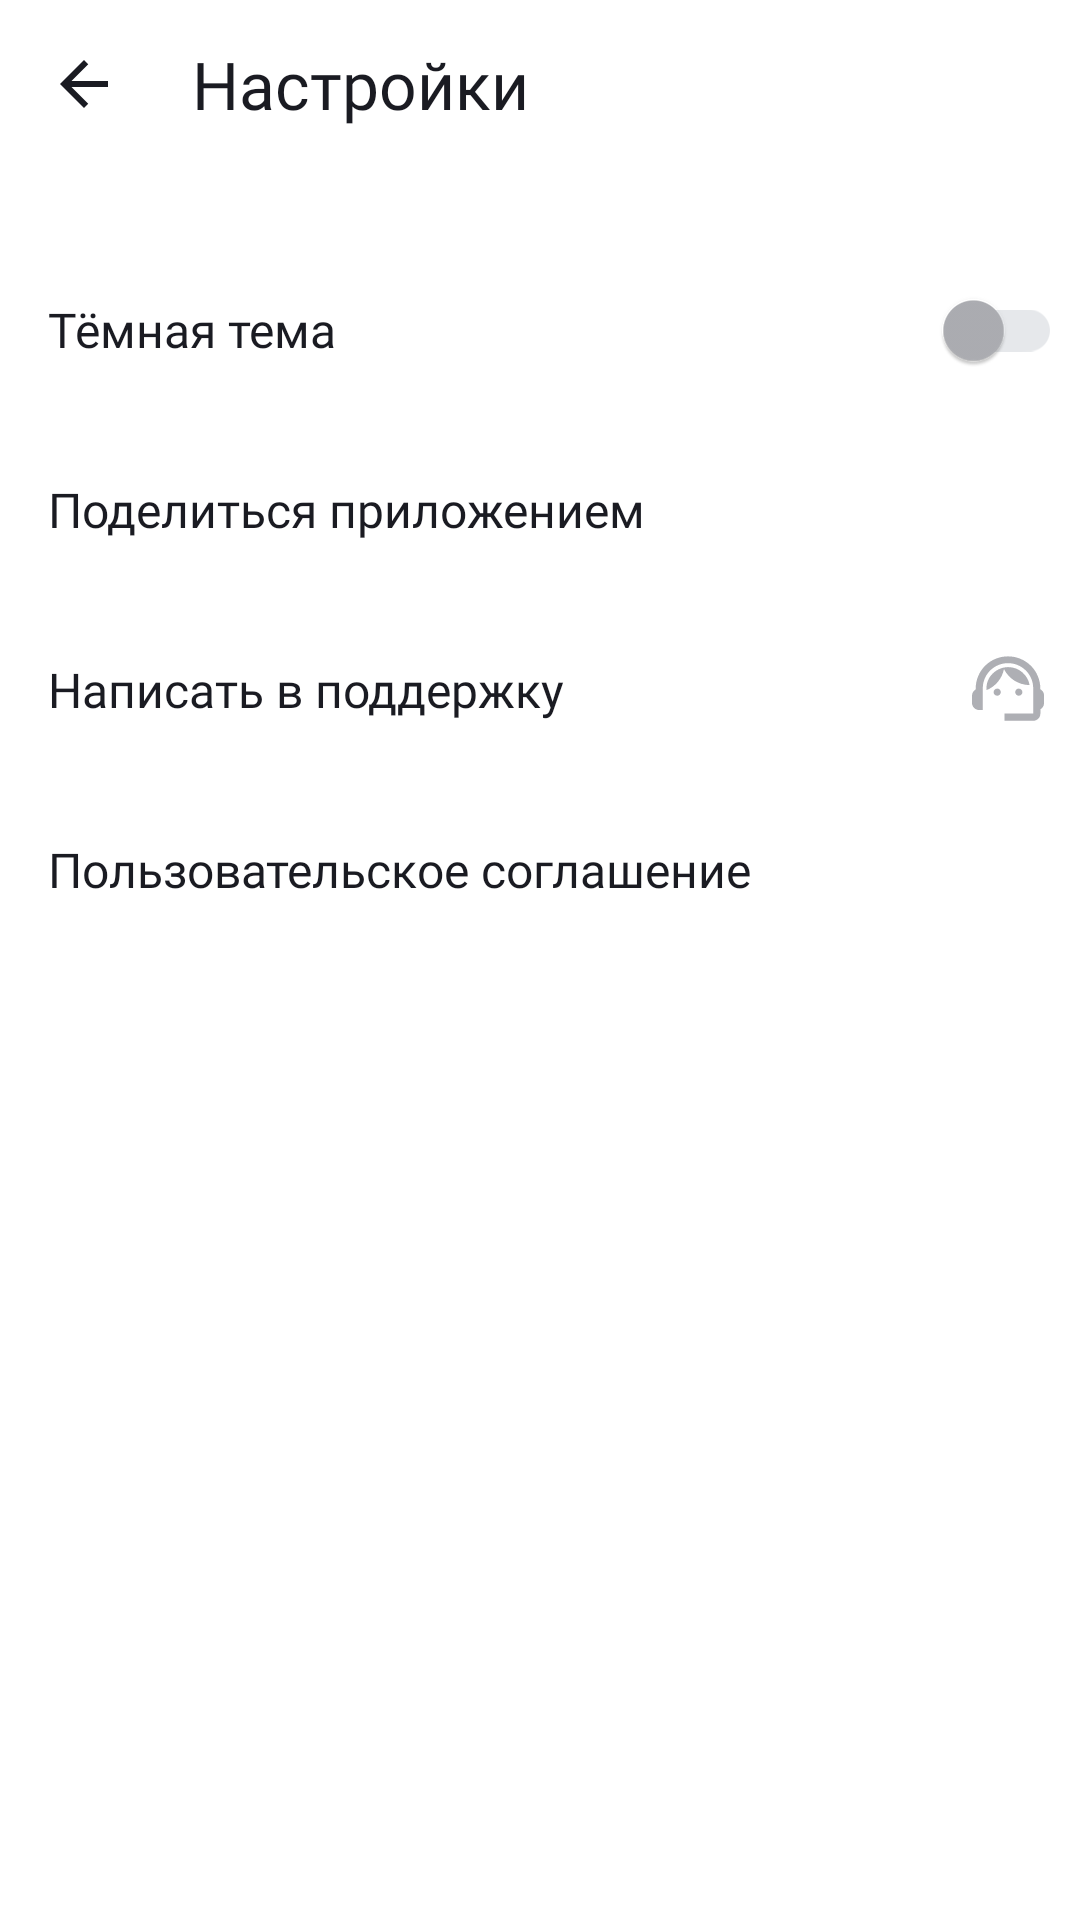

Named icons in this screenshot (1080 × 1920) and their centers, (x,y):
leftarrow: (84,84)
supporticon: (1008,688)
